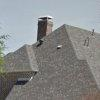Chimney: (31, 13, 60, 48)
